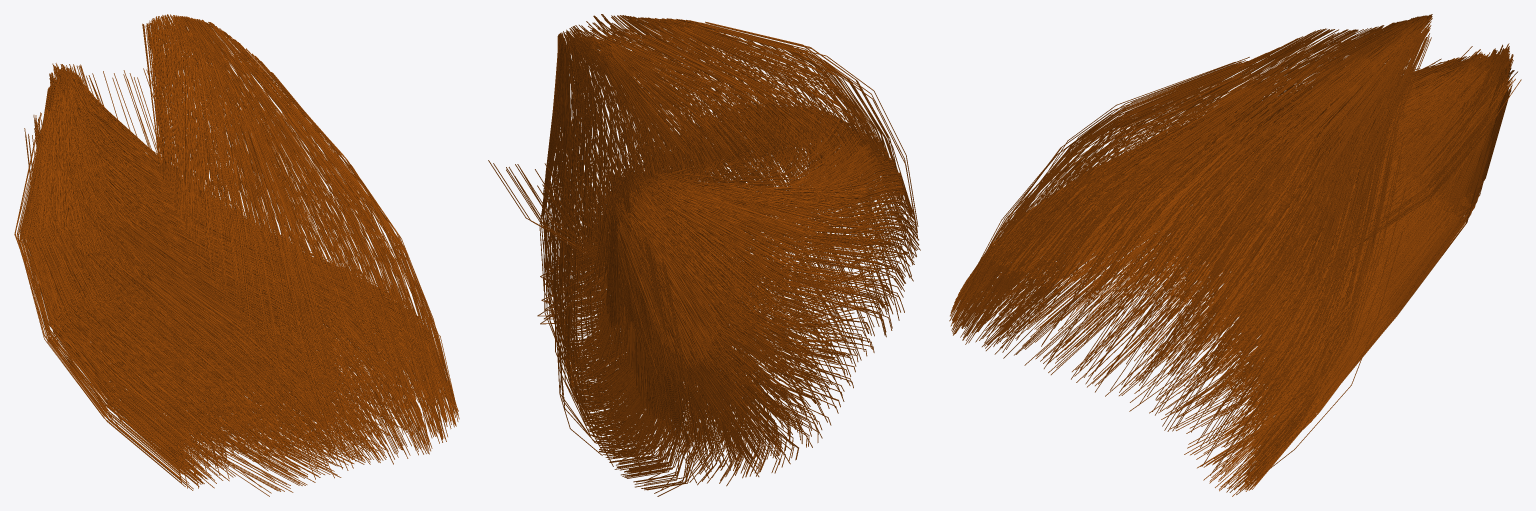
Rendered from GaretPelo.fbx.
The picture shows the model from 3 angles, left to right: view 1: azimuth 30°, elevation 25°; view 2: azimuth 150°, elevation 25°; view 3: azimuth 270°, elevation 25°; orthographic projection. The views are drawn at different scales.
Parts seen in each view (by area): view 1: Malla.001; view 2: Malla.001; view 3: Malla.001.
Boxes of the visible parts, x1=… form: Malla.001: x1=14, y1=14, x2=459, y2=496; Malla.001: x1=488, y1=14, x2=920, y2=496; Malla.001: x1=949, y1=14, x2=1521, y2=496.
Bounding box in the file's own units: 19.54 × 28.31 × 32.62.
